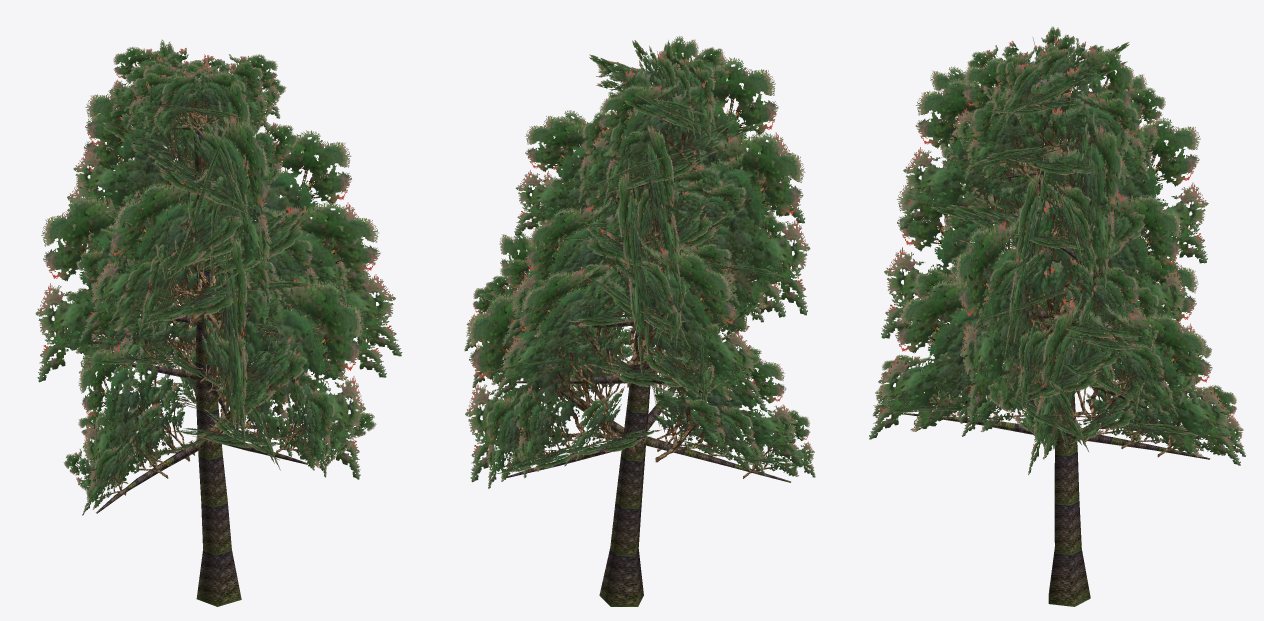
File: far.glb
The picture shows the model from 3 angles, left to right: view 1: azimuth 30°, elevation 25°; view 2: azimuth 150°, elevation 25°; view 3: azimuth 270°, elevation 25°; orthographic projection. The views are drawn at different scales.
Visible parts, largest first — view 1: lod2, lod1; view 2: lod2, lod1; view 3: lod2, lod1.
Part boxes in pixels (x1,y1,x2,y2): lod2: [35, 39, 402, 513]; lod1: [60, 47, 386, 606]; lod2: [465, 36, 810, 482]; lod1: [464, 40, 815, 606]; lod2: [869, 31, 1240, 474]; lod1: [873, 26, 1245, 606].
Bounding box in the file's own units: 29.38 × 45.44 × 29.81.
2 materials, 2 textured.
